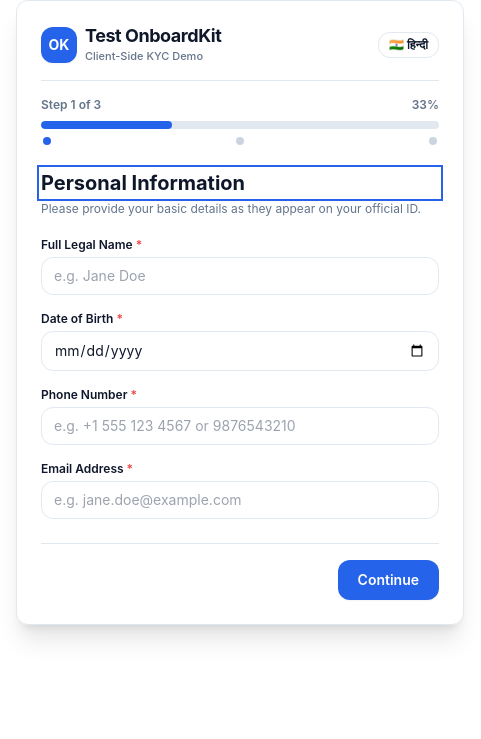
Phase 2: Flow and Step Navigation › prevents proceeding to next step when validation fails
Click the button "Continue": click(388, 580) [338, 560, 439, 600]
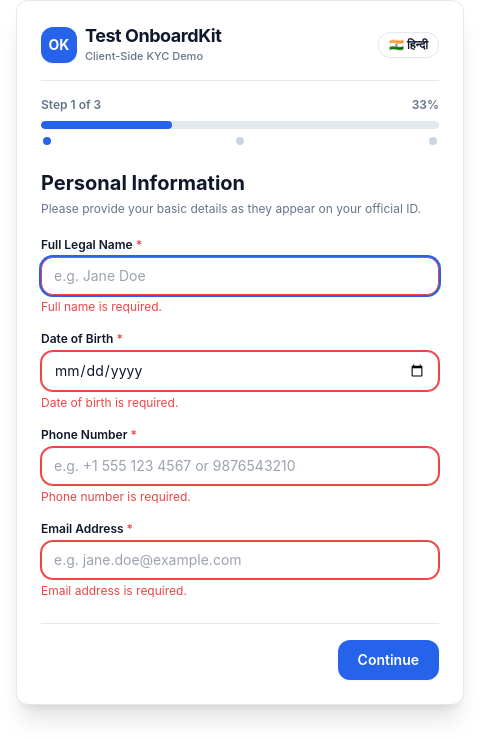
Expected: the heading "Personal Information" is shown, [41, 171, 245, 195]
Expected: the text "Full name is required." is shown, [41, 299, 162, 314]
